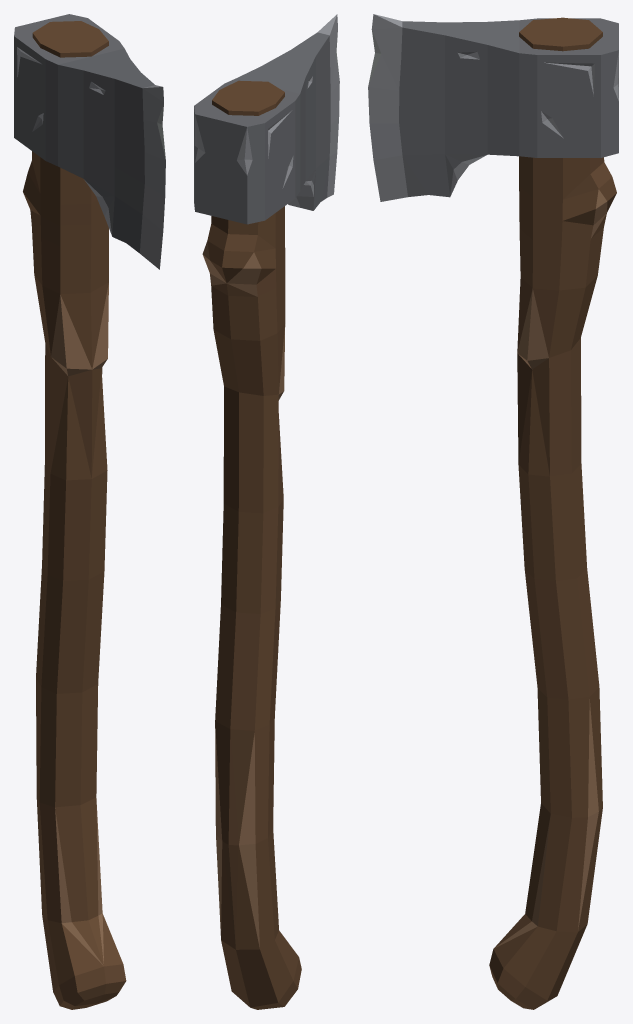
The model's file is mesh_axe.fbx.
3 renders of one model, left to right at view 1: azimuth 30°, elevation 25°; view 2: azimuth 150°, elevation 25°; view 3: azimuth 270°, elevation 25°, orthographic. The views are drawn at different scales.
Visible parts, largest first — view 1: mesh_axe; view 2: mesh_axe; view 3: mesh_axe.
Boxes of the visible parts, x1=… form: mesh_axe: x1=14, y1=14, x2=165, y2=1009; mesh_axe: x1=194, y1=14, x2=339, y2=1009; mesh_axe: x1=368, y1=14, x2=618, y2=1009.
Bounding box in the file's own units: 0.085 × 1.07 × 0.2467.
